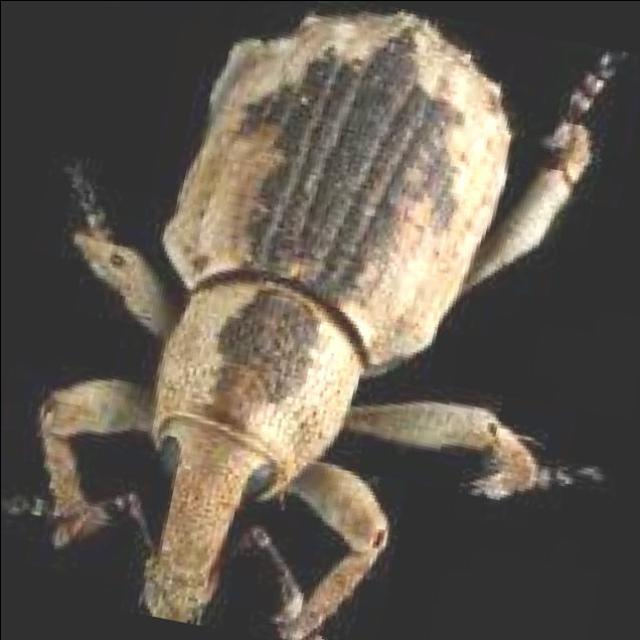ricebug: (41, 11, 590, 640)
